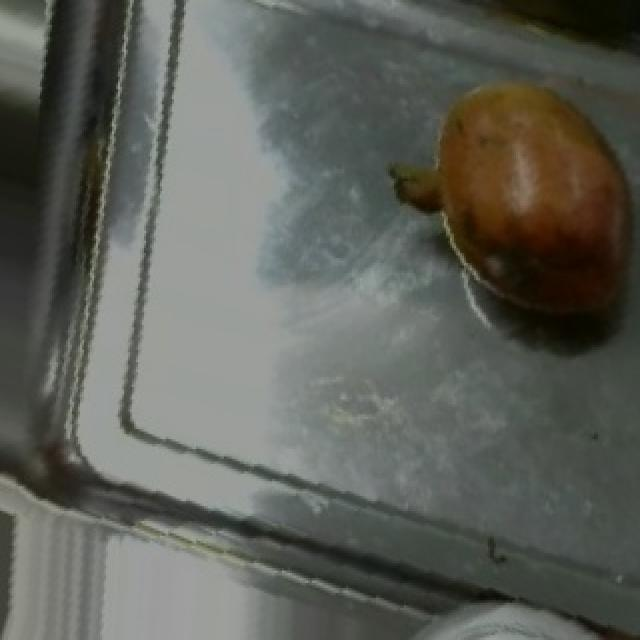fruit: (384, 52, 640, 318)
